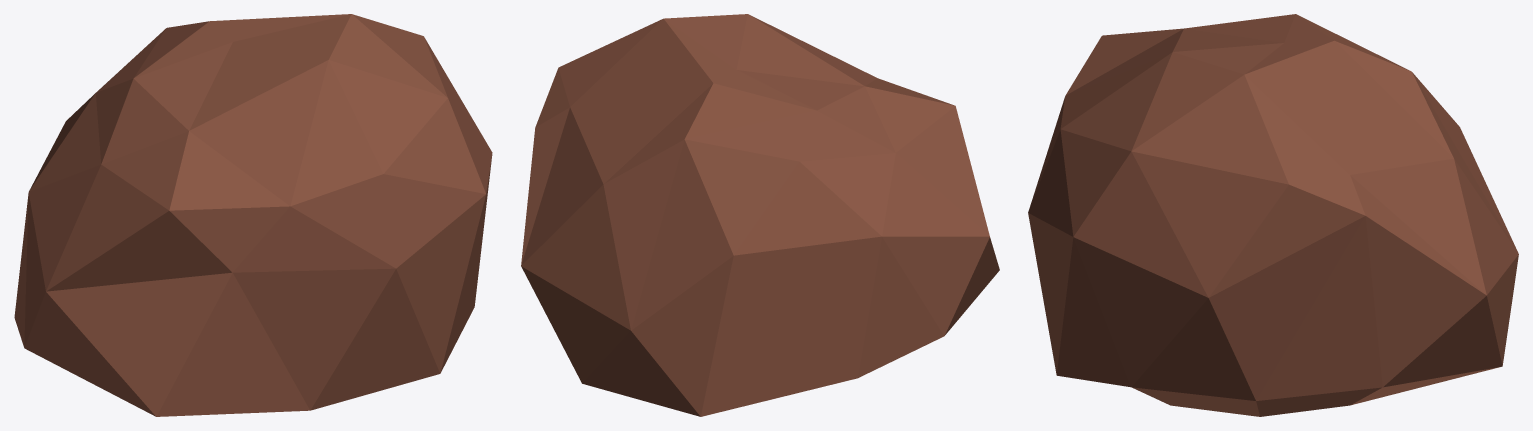
The model's file is Piedra.fbx.
The picture shows the model from 3 angles, left to right: view 1: azimuth 30°, elevation 25°; view 2: azimuth 150°, elevation 25°; view 3: azimuth 270°, elevation 25°; orthographic projection. The views are drawn at different scales.
Parts seen in each view (by area): view 1: Piedra 3; view 2: Piedra 3; view 3: Piedra 3.
Part boxes in pixels (<box>): Piedra 3: <box>14,14,492,416</box>; Piedra 3: <box>521,14,999,416</box>; Piedra 3: <box>1028,14,1518,416</box>.
Size of the model in its own units: 349 by 226 by 315.
